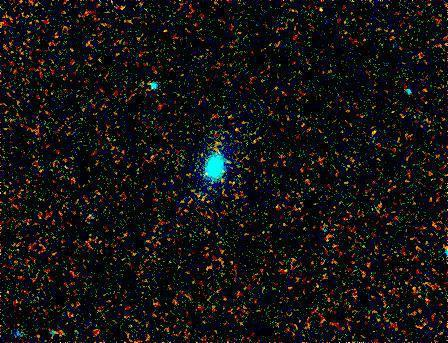star: (307, 0, 337, 27)
